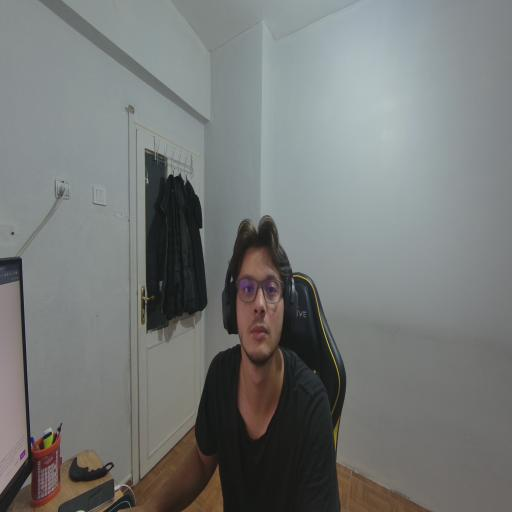cuma-face-v2: (219, 215, 308, 359)
